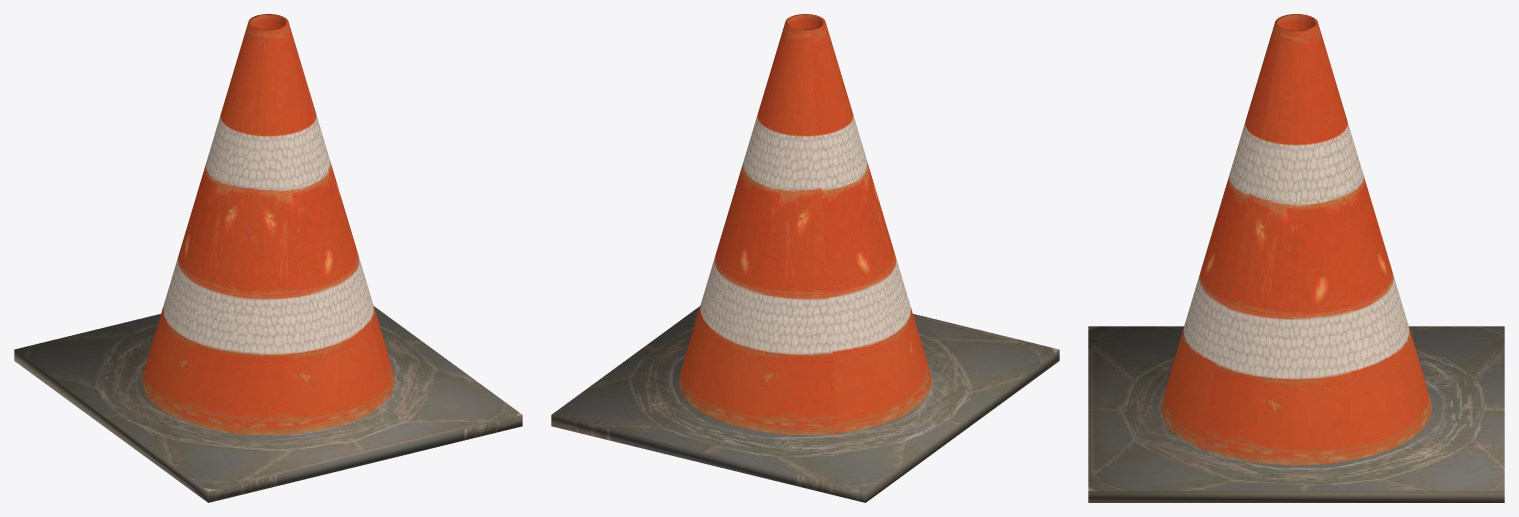
File: Street Cone.obj
3 views of the same model, side by side, from view 1: azimuth 30°, elevation 25°; view 2: azimuth 150°, elevation 25°; view 3: azimuth 270°, elevation 25° (orthographic). The views are drawn at different scales.
Parts seen in each view (by area): view 1: Cone; view 2: Cone; view 3: Cone.
Part boxes in pixels (x1=…): Cone: x1=14, y1=14, x2=522, y2=502; Cone: x1=551, y1=14, x2=1059, y2=502; Cone: x1=1088, y1=14, x2=1504, y2=502.
Size of the model in its own units: 2.86 by 3.23 by 3.06.
1 material, 1 textured.
